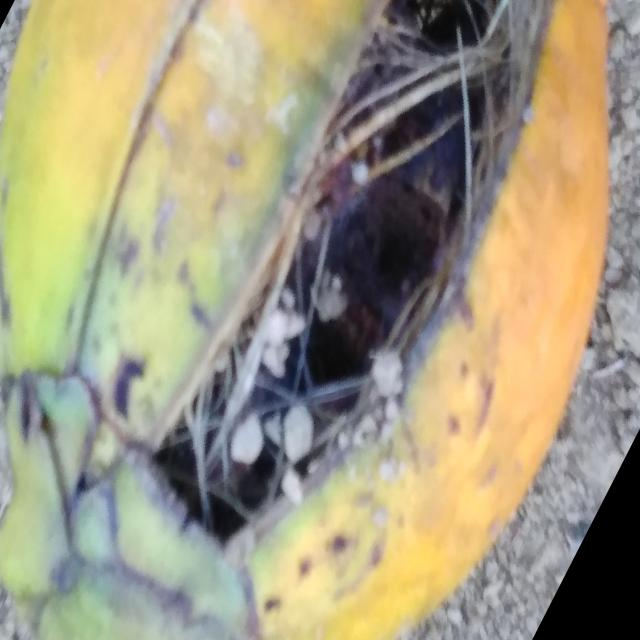damaged: (0, 0, 610, 640)
